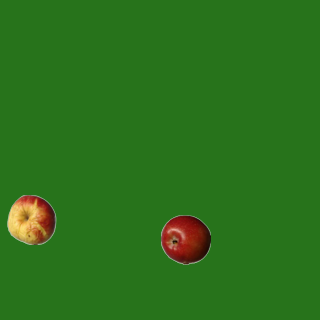Apple Braeburn: (160, 214, 210, 264)
Apple Red Yellow 1: (6, 194, 56, 244)
